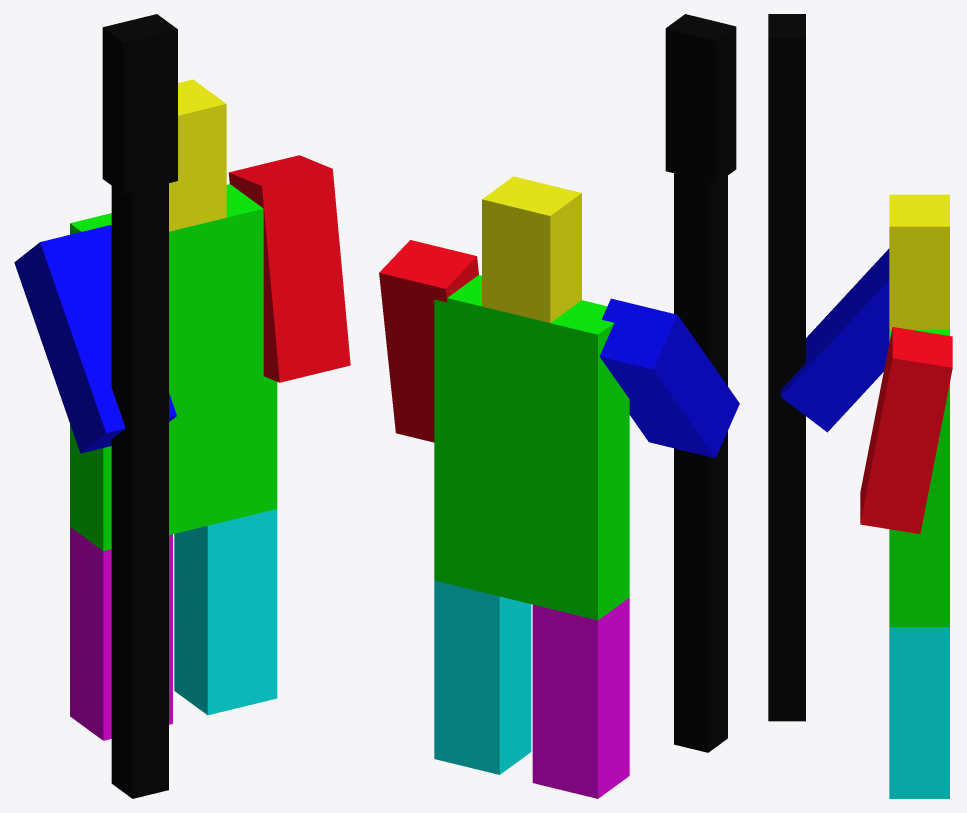
File: ToyPorn.fbx
The picture shows the model from 3 angles, left to right: view 1: azimuth 30°, elevation 25°; view 2: azimuth 150°, elevation 25°; view 3: azimuth 270°, elevation 25°; orthographic projection. The views are drawn at different scales.
Parts seen in each view (by area): view 1: Cube.001, Cube.008, Cube.002, Cube.004, Cube.005, Cube.007, Cube.003, Cube.006; view 2: Cube.001, Cube.008, Cube.003, Cube.002, Cube.005, Cube.006, Cube.007, Cube.004; view 3: Cube.008, Cube.004, Cube.002, Cube.005, Cube.006, Cube.001, Cube.007.
Part boxes in pixels (bbox=[...]): Cube.001: bbox=[70, 184, 277, 550]; Cube.008: bbox=[111, 183, 168, 798]; Cube.002: bbox=[174, 509, 277, 715]; Cube.004: bbox=[228, 155, 350, 382]; Cube.005: bbox=[14, 225, 176, 453]; Cube.007: bbox=[102, 14, 177, 194]; Cube.003: bbox=[70, 527, 172, 740]; Cube.006: bbox=[169, 79, 226, 231]; Cube.001: bbox=[434, 275, 629, 620]; Cube.008: bbox=[674, 173, 727, 752]; Cube.003: bbox=[532, 597, 629, 798]; Cube.002: bbox=[434, 580, 531, 774]; Cube.005: bbox=[599, 298, 739, 458]; Cube.006: bbox=[482, 176, 581, 322]; Cube.007: bbox=[665, 14, 736, 183]; Cube.004: bbox=[379, 240, 478, 442]; Cube.008: bbox=[768, 175, 805, 721]; Cube.004: bbox=[860, 327, 952, 533]; Cube.002: bbox=[889, 627, 949, 798]; Cube.005: bbox=[780, 248, 889, 432]; Cube.006: bbox=[889, 194, 949, 329]; Cube.001: bbox=[889, 329, 949, 626]; Cube.007: bbox=[768, 14, 805, 175].
Bounding box in the file's own units: 79.56 × 200 × 48.66.
